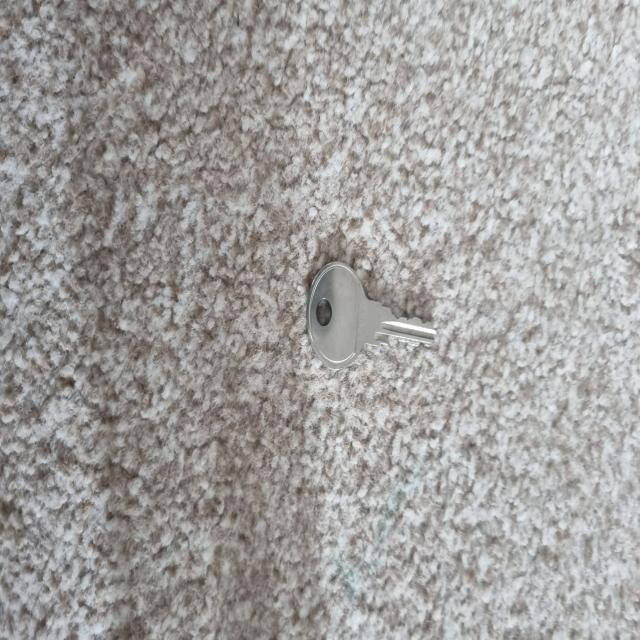Key: (305, 262, 436, 369)
